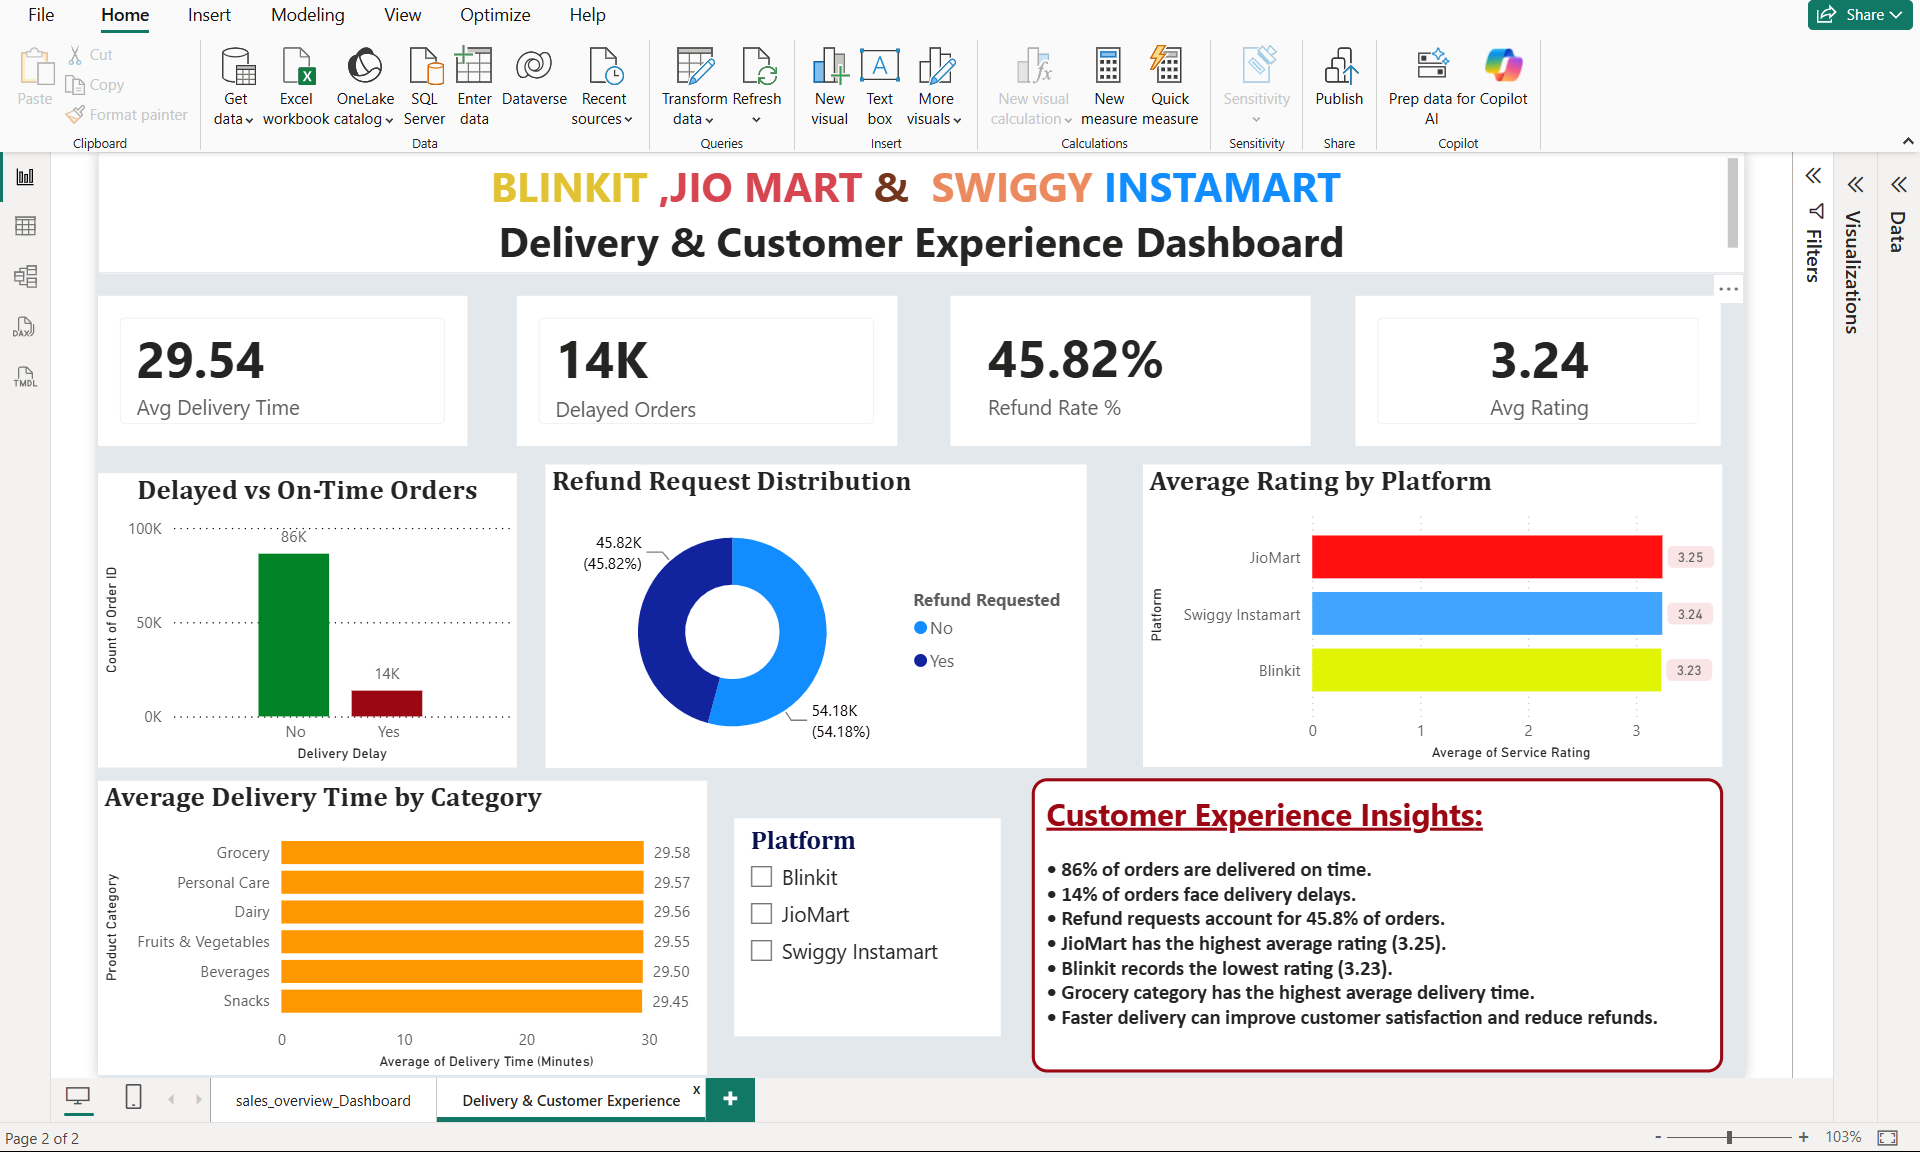

This screenshot's page, from the dashboard's own definition file:
{"tool":"powerbi","page":{"name":"Delivery & Customer Experience","canvas":[1280,720],"ordinal":1},"visuals":[{"type":"cardVisual","fields":{"Data":["Clean_Data.Avg Delivery Time"]},"box":[0,111.9,287.5,117],"z":0},{"type":"cardVisual","fields":{"Data":["Clean_Data.Delayed Orders"]},"box":[325.4,111.9,295.7,117],"z":1000},{"type":"cardVisual","fields":{"Data":["Clean_Data.Refund Rate %"]},"box":[663.2,111.9,280.3,117],"z":2000},{"type":"cardVisual","fields":{"Data":["Clean_Data.Avg Rating"]},"box":[977.4,111.9,284.4,117],"z":3000},{"type":"textbox","box":[0,0,1280.2,94.3],"z":4000},{"type":"clusteredColumnChart","title":"Delayed vs On-Time Orders","fields":{"Category":["Clean_Data.Delivery Delay"],"Y":["CountNonNull(Clean_Data.Order ID)"]},"box":[0,250,325.6,229.1],"z":5000},{"type":"donutChart","title":"Refund Request Distribution","fields":{"Category":["Clean_Data.Refund Requested"],"Y":["CountNonNull(Clean_Data.Order ID)"]},"box":[347.7,243,420.9,236],"z":6000},{"type":"clusteredBarChart","title":"Average Rating by Platform","fields":{"Category":["Clean_Data.Platform"],"Y":["Avg(Clean_Data.Service Rating)"]},"box":[812.8,243,450,234.9],"z":7000},{"type":"clusteredBarChart","title":"Average Delivery Time by Category","fields":{"Category":["Clean_Data.Product Category"],"Y":["Avg(Clean_Data.Delivery Time (Minutes))"]},"box":[0,488.7,473.5,229.2],"z":8000},{"type":"slicer","fields":{"Values":["Clean_Data.Platform"]},"box":[494.2,517.7,207.1,169.8],"z":9000},{"type":"textbox","box":[725.6,487.2,537.2,229.1],"z":10000}]}

Visuals, with their boxes on the page's 1280x720 design canvas (x1, y1, x2, y2). These are canvas units, not pixel positions in the 1920x1152 screenshot, which may show the page scaled, cropped or inside an application window:
cardVisual - Clean_Data.Avg Delivery Time: select_region(0, 112, 288, 229)
cardVisual - Clean_Data.Delayed Orders: select_region(325, 112, 621, 229)
cardVisual - Clean_Data.Refund Rate %: select_region(663, 112, 944, 229)
cardVisual - Clean_Data.Avg Rating: select_region(977, 112, 1262, 229)
textbox: select_region(0, 0, 1280, 94)
"Delayed vs On-Time Orders" clusteredColumnChart: select_region(0, 250, 326, 479)
"Refund Request Distribution" donutChart: select_region(348, 243, 769, 479)
"Average Rating by Platform" clusteredBarChart: select_region(813, 243, 1263, 478)
"Average Delivery Time by Category" clusteredBarChart: select_region(0, 489, 474, 718)
slicer - Clean_Data.Platform: select_region(494, 518, 701, 688)
textbox: select_region(726, 487, 1263, 716)
